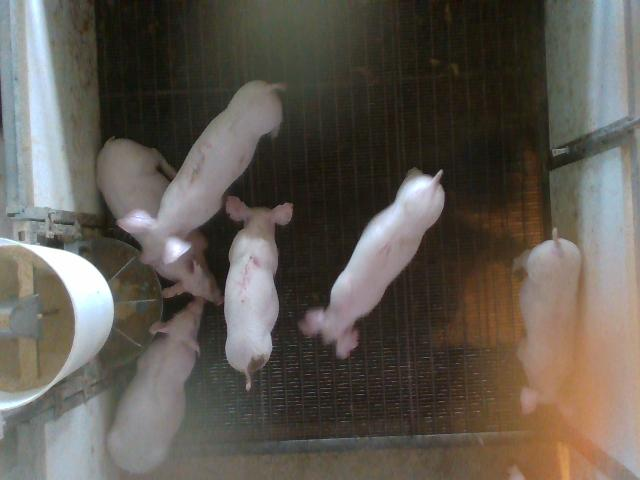pig-3: (118, 80, 284, 266)
pig-5: (224, 196, 292, 389)
